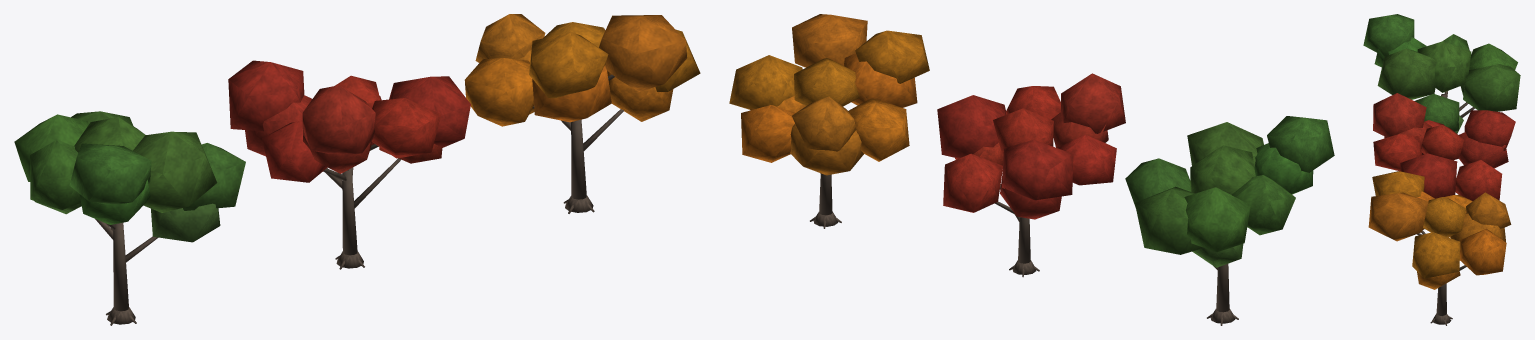
Rendered from tree_maple.glb.
The picture shows the model from 3 angles, left to right: view 1: azimuth 30°, elevation 25°; view 2: azimuth 150°, elevation 25°; view 3: azimuth 270°, elevation 25°; orthographic projection. The views are drawn at different scales.
Visible parts, largest first — view 1: tree_maple_v1, tree_maple_v3, tree_maple_v2; view 2: tree_maple_v3, tree_maple_v2, tree_maple_v1; view 3: tree_maple_v3, tree_maple_v1, tree_maple_v2.
Part boxes in pixels (x1,y1,x2,y2): tree_maple_v1: (14, 111, 245, 325); tree_maple_v3: (464, 14, 700, 213); tree_maple_v2: (228, 60, 470, 269); tree_maple_v3: (729, 14, 929, 228); tree_maple_v2: (937, 73, 1125, 277); tree_maple_v1: (1125, 116, 1334, 325); tree_maple_v3: (1368, 171, 1511, 325); tree_maple_v1: (1363, 14, 1520, 133); tree_maple_v2: (1373, 93, 1515, 200).
Bounding box in the file's own units: 22.7 × 7.22 × 7.24.
Materials: 2 (2 with a texture image).
